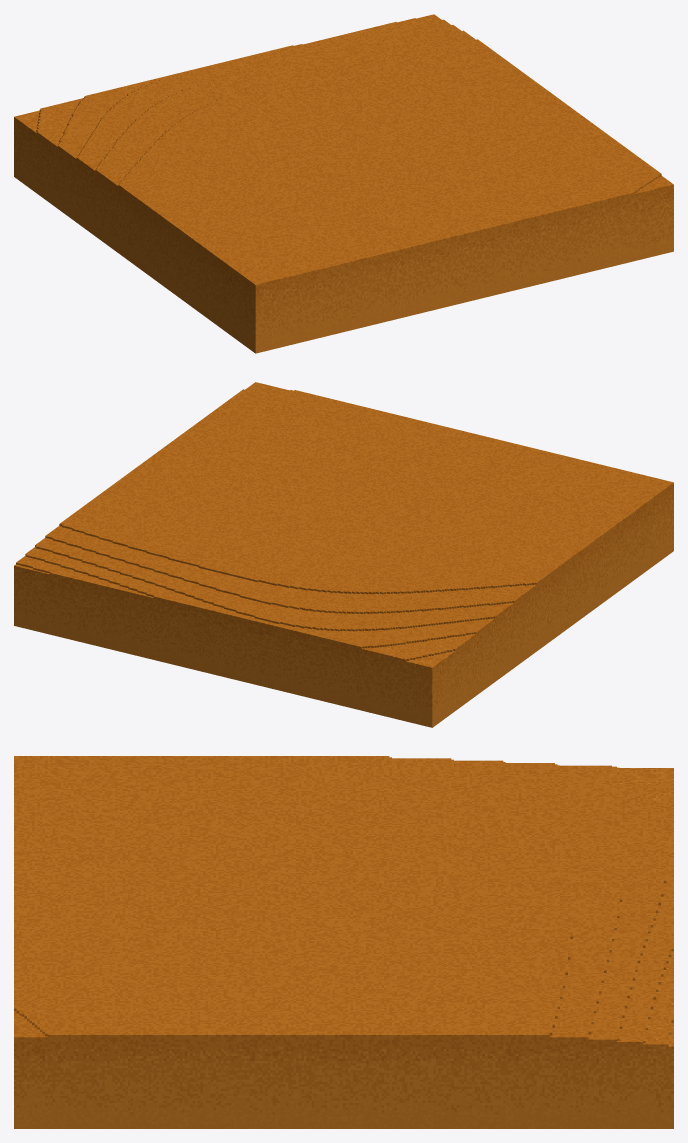
The model's file is Marte-8.obj.
3 views of the same model, one above another, from view 1: azimuth 30°, elevation 25°; view 2: azimuth 150°, elevation 25°; view 3: azimuth 270°, elevation 25° (orthographic). The views are drawn at different scales.
Bounding box in the file's own units: 25.5 × 4 × 25.5.
1 material, 1 textured.
